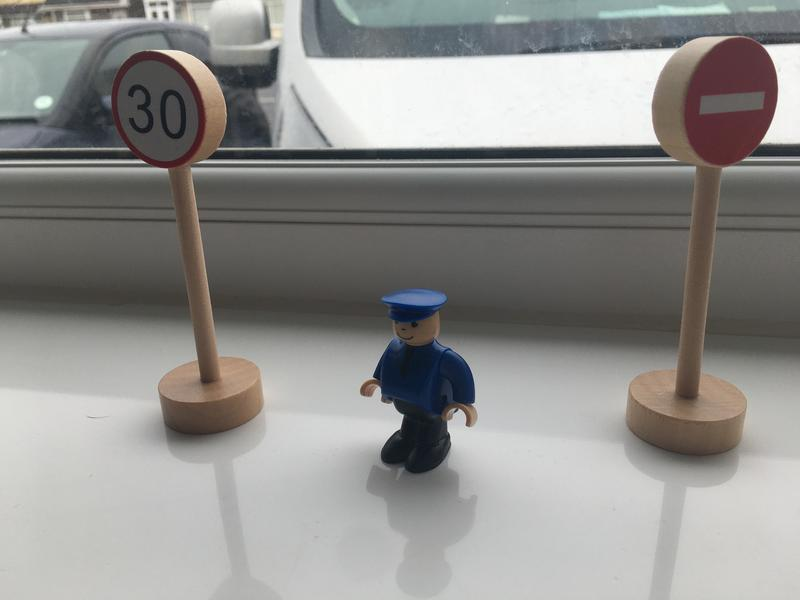Traffic_Sign_30: (113, 51, 206, 167)
Traffic_Sign_No_Entry: (687, 37, 776, 166)
person: (357, 291, 481, 476)
